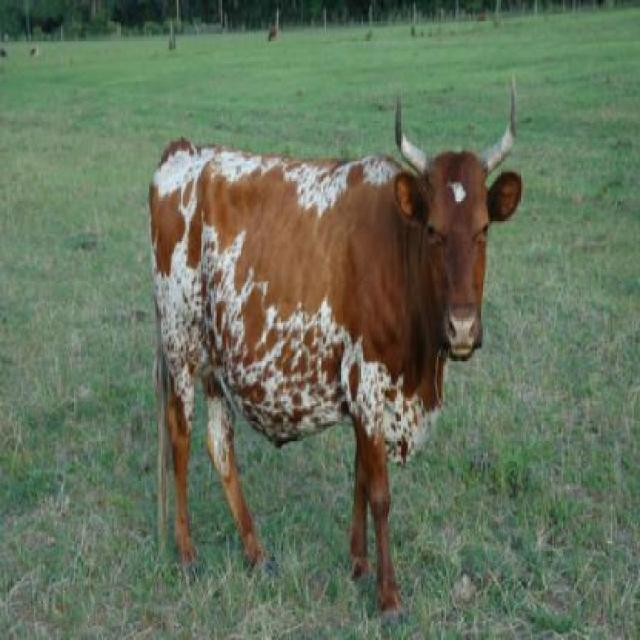Cow: (151, 78, 523, 612)
